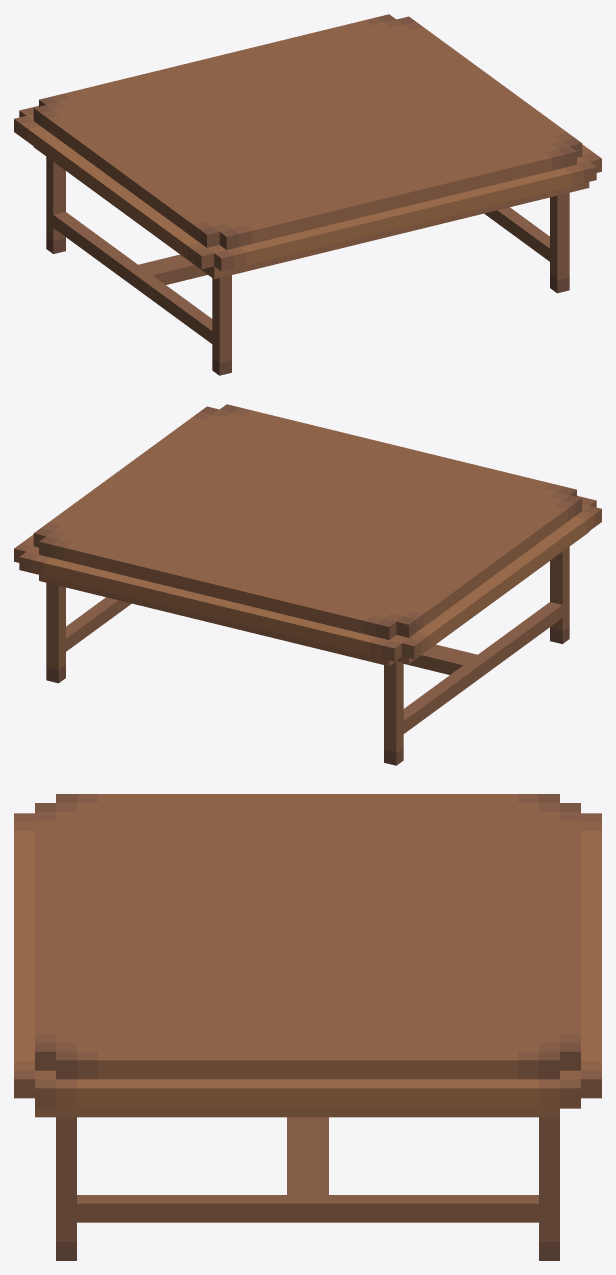
Rendered from Interior_Furniture-17.obj.
The picture shows the model from 3 angles, top to bottom: view 1: azimuth 30°, elevation 25°; view 2: azimuth 150°, elevation 25°; view 3: azimuth 270°, elevation 25°; orthographic projection. The views are drawn at different scales.
Size of the model in its own units: 3.2 by 1.1 by 2.8.
Materials: 1 (1 with a texture image).
